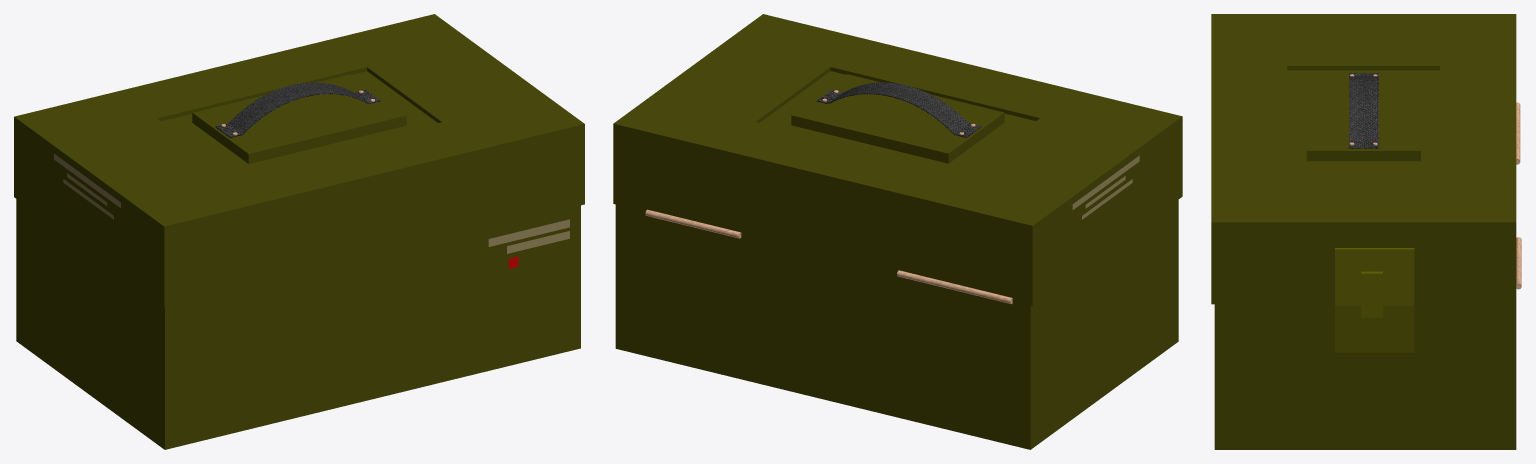
Rendered from ammo.dae.
The picture shows the model from 3 angles, left to right: view 1: azimuth 30°, elevation 25°; view 2: azimuth 150°, elevation 25°; view 3: azimuth 270°, elevation 25°; orthographic projection.
Parts seen in each view (by area): view 1: SketchUp (×6); view 2: SketchUp (×7); view 3: SketchUp (×6).
Part boxes in pixels (x1=…): SketchUp (×6): x1=14, y1=14, x2=584, y2=449; SketchUp (×7): x1=613, y1=14, x2=1182, y2=449; SketchUp (×6): x1=1211, y1=14, x2=1516, y2=449.
Bounding box in the file's own units: 174 × 108 × 99.25.
